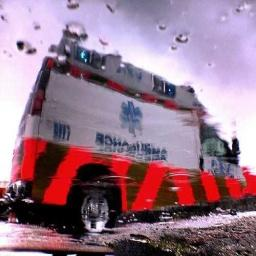ambulance: (5, 37, 242, 231)
